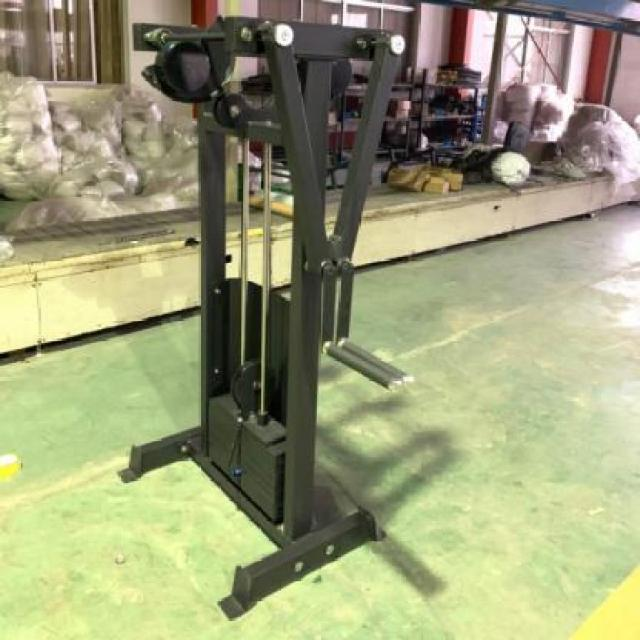lateral raises machine: (134, 12, 418, 611)
